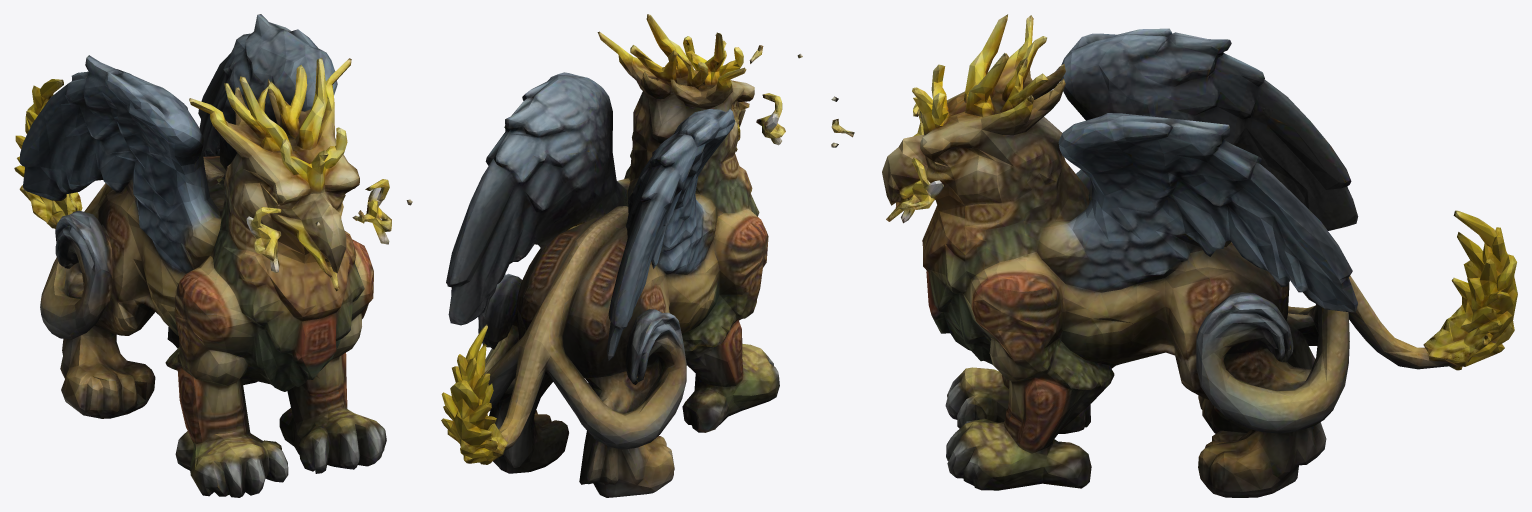
File: skyrend__thunderheart.glb
3 views of the same model, side by side, from view 1: azimuth 30°, elevation 25°; view 2: azimuth 150°, elevation 25°; view 3: azimuth 270°, elevation 25° (orthographic). The views are drawn at different scales.
Parts seen in each view (by area): view 1: world; view 2: world; view 3: world.
Part boxes in pixels (x1,y1,x2,y2): world: [14, 14, 412, 497]; world: [441, 14, 802, 497]; world: [831, 14, 1517, 497].
Size of the model in its own units: 0.3604 by 0.6808 by 0.9998.
Materials: 1 (1 with a texture image).
